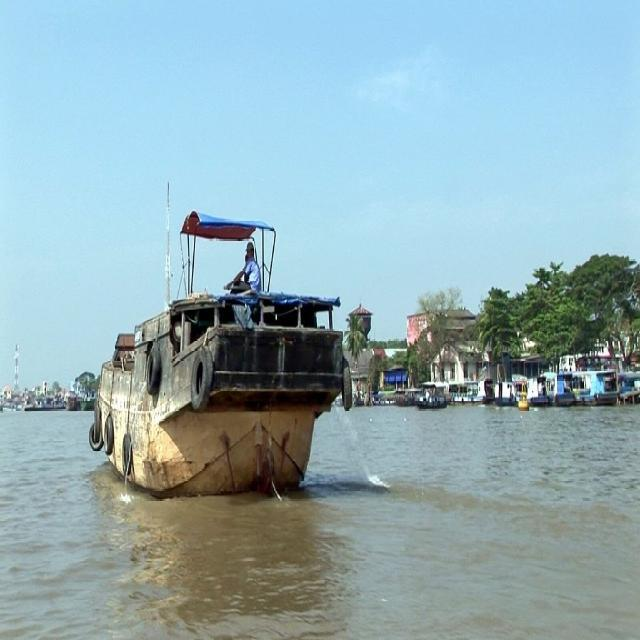boat: (84, 292, 353, 499), (418, 382, 449, 412)
